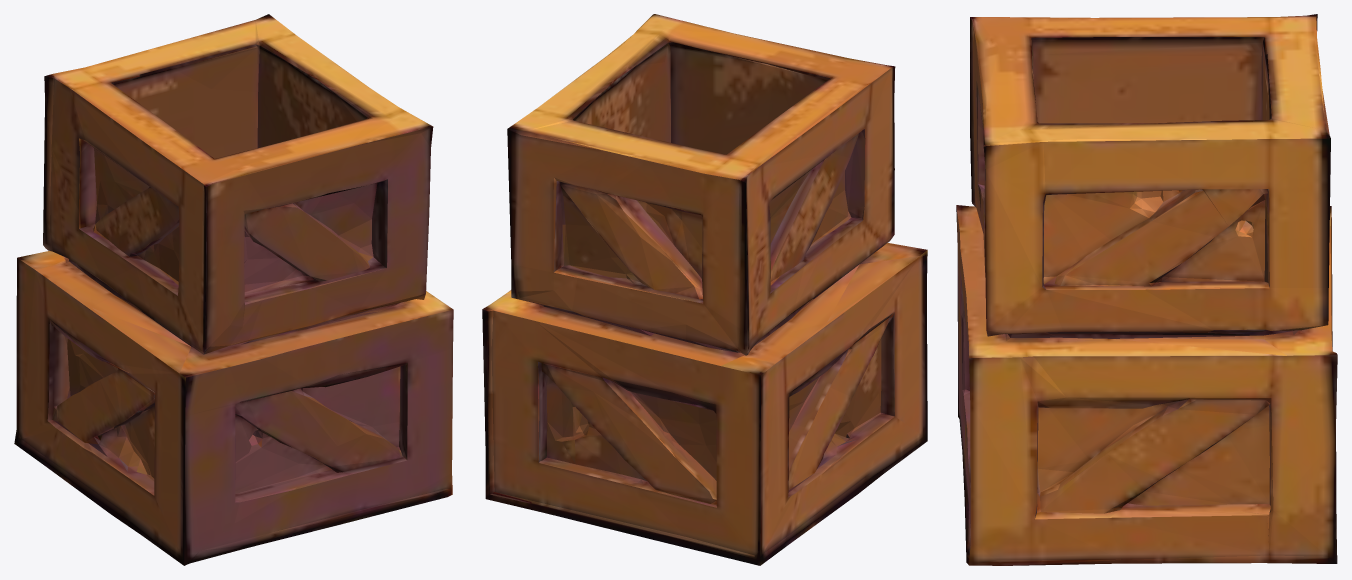
File: casse_pesce.glb
3 renders of one model, left to right at view 1: azimuth 30°, elevation 25°; view 2: azimuth 150°, elevation 25°; view 3: azimuth 270°, elevation 25°, orthographic. The views are drawn at different scales.
Parts seen in each view (by area): view 1: geometry_0; view 2: geometry_0; view 3: geometry_0.
Part boxes in pixels (bbox=[...]): geometry_0: bbox=[14, 14, 453, 565]; geometry_0: bbox=[482, 14, 927, 565]; geometry_0: bbox=[956, 14, 1337, 565].
Size of the model in its own units: 0.8466 by 1.08 by 0.9.
Materials: 1 (1 with a texture image).
